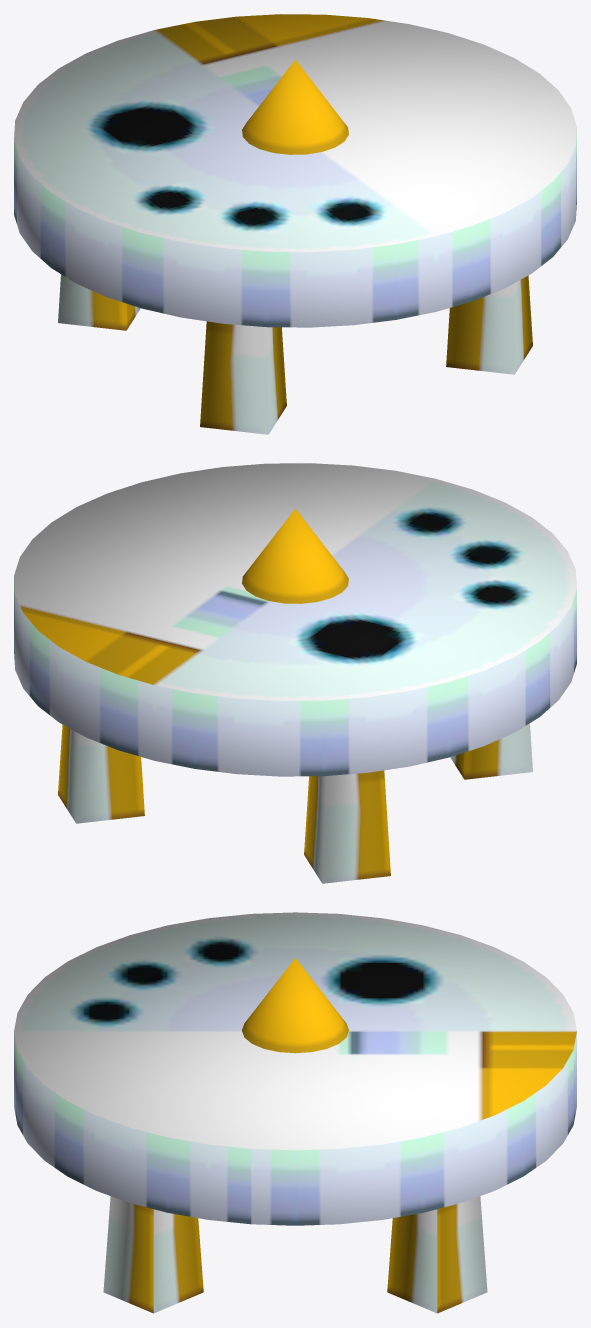
The model's file is int_snw_tableL.dae.
3 renders of one model, top to bottom at view 1: azimuth 30°, elevation 25°; view 2: azimuth 150°, elevation 25°; view 3: azimuth 270°, elevation 25°, orthographic.
Visible parts, largest first — view 1: int_snw_tableL; view 2: int_snw_tableL; view 3: int_snw_tableL.
Part boxes in pixels (x1,y1,x2,y2): int_snw_tableL: (14, 14, 576, 434); int_snw_tableL: (14, 463, 576, 883); int_snw_tableL: (14, 912, 576, 1313).
Size of the model in its own units: 60.31 by 32.46 by 60.31.
Materials: 1 (1 with a texture image).
